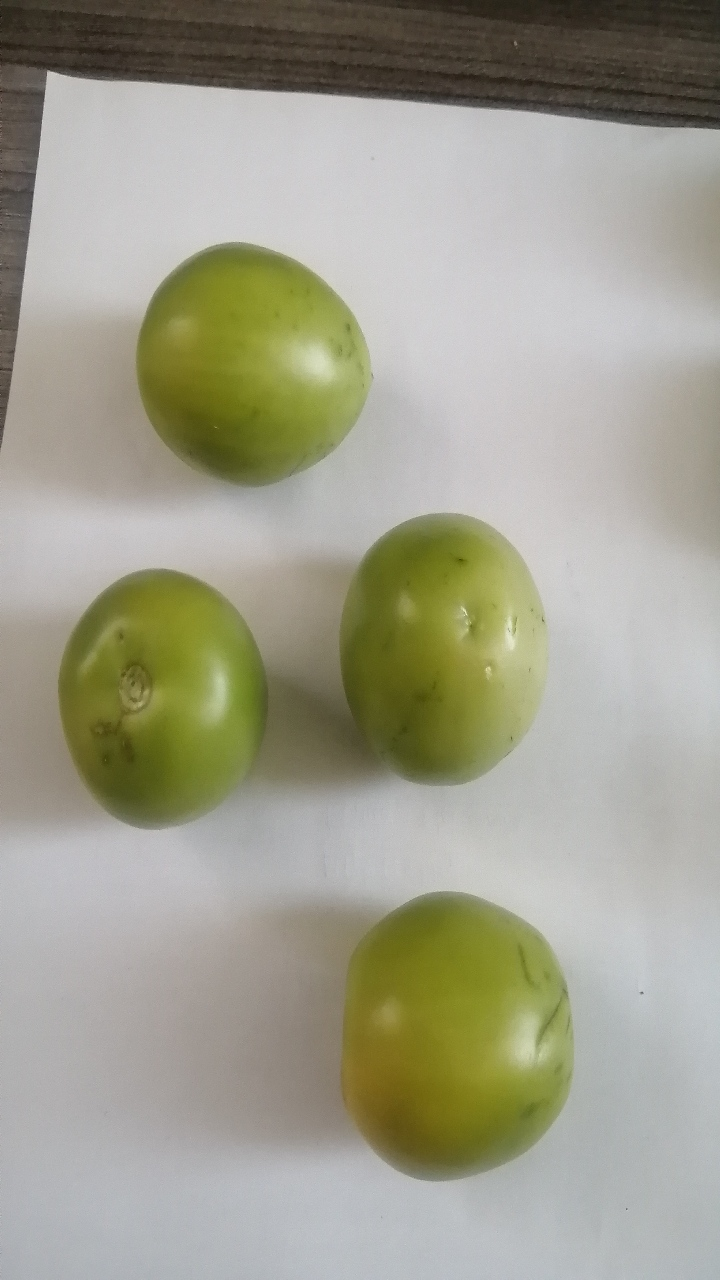tomateVerde: (320, 872, 618, 1219), (320, 503, 571, 803), (123, 222, 398, 495), (49, 548, 298, 848)
